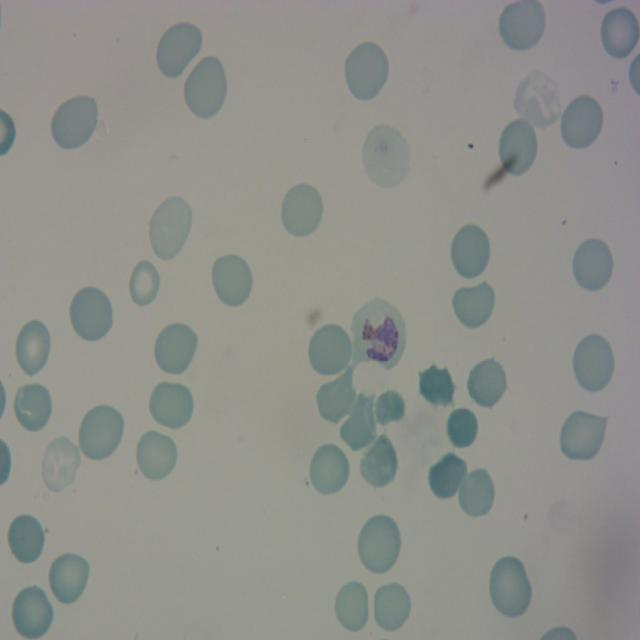leukocyte: (146, 192, 194, 263), (153, 20, 204, 83), (360, 124, 410, 188), (355, 511, 403, 577), (182, 55, 229, 122), (487, 553, 533, 621), (342, 40, 390, 104), (76, 402, 125, 464), (49, 93, 99, 152), (570, 332, 616, 396), (67, 284, 115, 344), (557, 92, 605, 152), (278, 180, 325, 240), (152, 320, 200, 378), (306, 321, 354, 379), (496, 116, 540, 179), (514, 68, 560, 128), (46, 549, 92, 607), (39, 432, 82, 494), (570, 235, 615, 294), (498, 0, 547, 54), (448, 222, 492, 282), (133, 428, 179, 484), (147, 380, 195, 433), (464, 354, 510, 409), (12, 317, 53, 378), (449, 278, 497, 330), (307, 442, 351, 498), (210, 252, 254, 308), (10, 584, 54, 640), (356, 434, 399, 491), (559, 412, 606, 463), (11, 380, 54, 435), (371, 579, 414, 633), (600, 6, 640, 63), (338, 391, 376, 450), (456, 465, 496, 521), (6, 512, 46, 566), (333, 578, 372, 633), (426, 452, 468, 502), (443, 402, 481, 454), (417, 363, 457, 411), (316, 372, 356, 420), (128, 259, 162, 311), (374, 388, 406, 426)
schizont: (352, 295, 406, 371)
